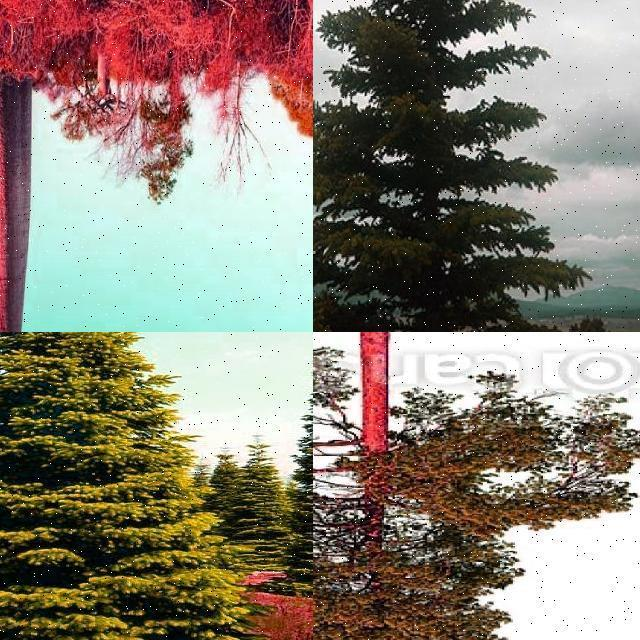tree: (312, 332, 640, 640), (313, 0, 583, 332), (0, 28, 220, 332), (0, 332, 192, 640), (211, 422, 295, 614), (0, 42, 44, 242), (1, 378, 40, 598), (52, 25, 120, 151), (141, 51, 195, 209), (208, 52, 260, 200), (1, 448, 40, 588)
